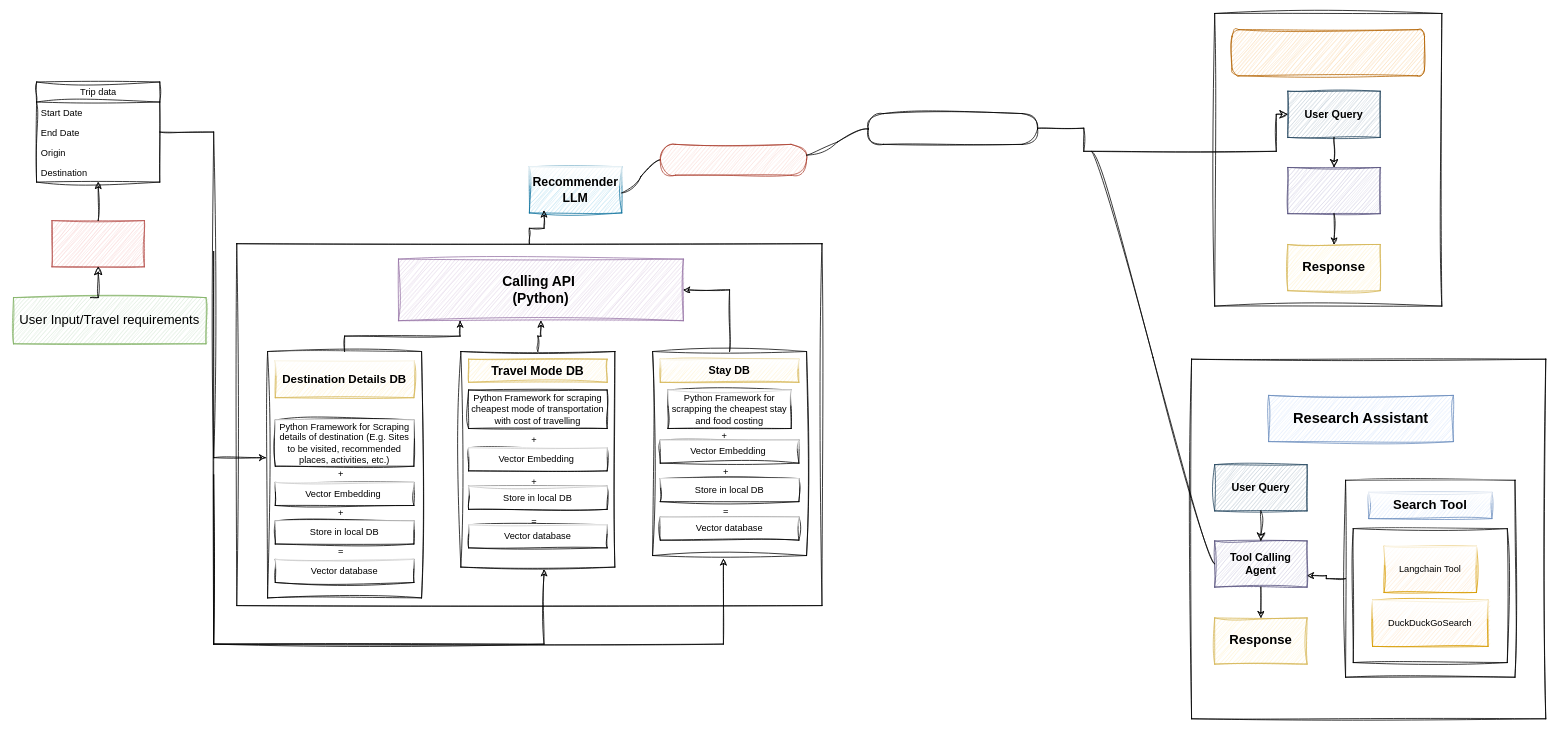
This 1559x732 diagram has some shape labels left out. Here are the shapes that lost their labels. From the top down, the centre of each, then its label:
pixel 1327 52: Travel Assistant
pixel 952 128: Chat Memory/Context
pixel 733 159: Recommended Trip
pixel 1333 190: General LLM
pixel 97 243: Parsing LLM
